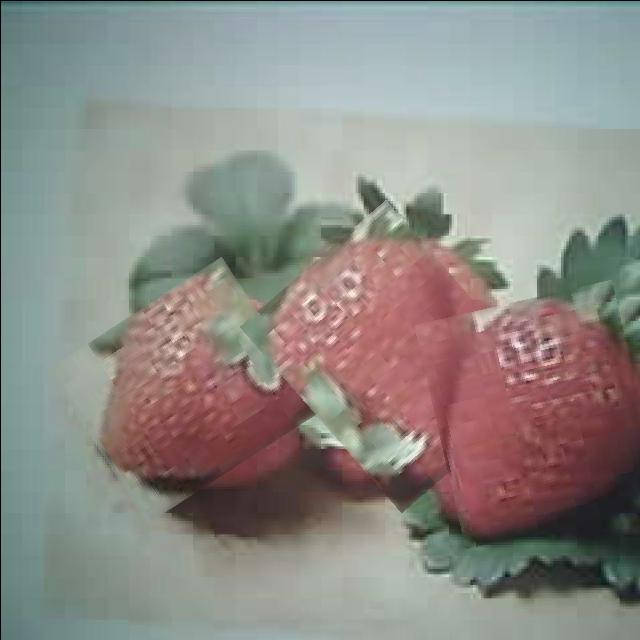strawberry: (267, 215, 518, 496), (63, 278, 304, 502), (426, 289, 640, 538)
